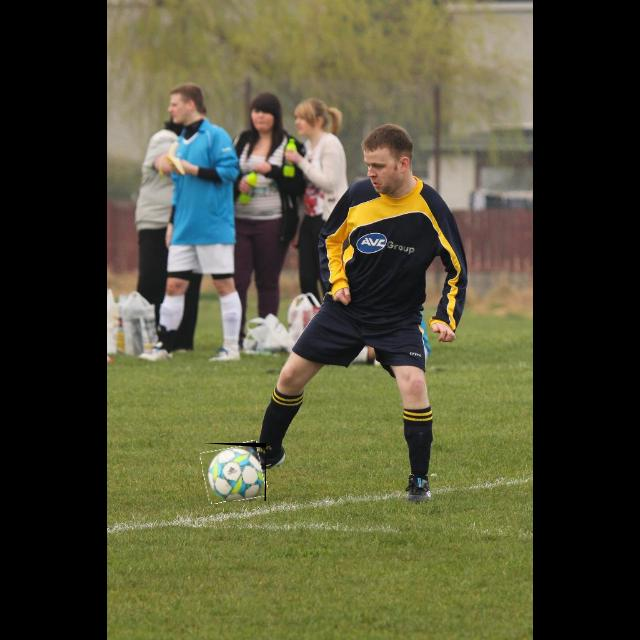Football: (202, 443, 266, 501)
